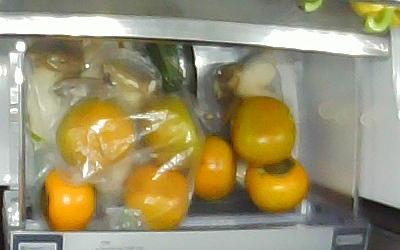persimmon: (230, 96, 297, 164), (244, 154, 308, 212), (188, 135, 239, 202)
persimmon_vinyl: (56, 98, 135, 171), (140, 97, 201, 170), (122, 163, 187, 229), (40, 169, 97, 230)
